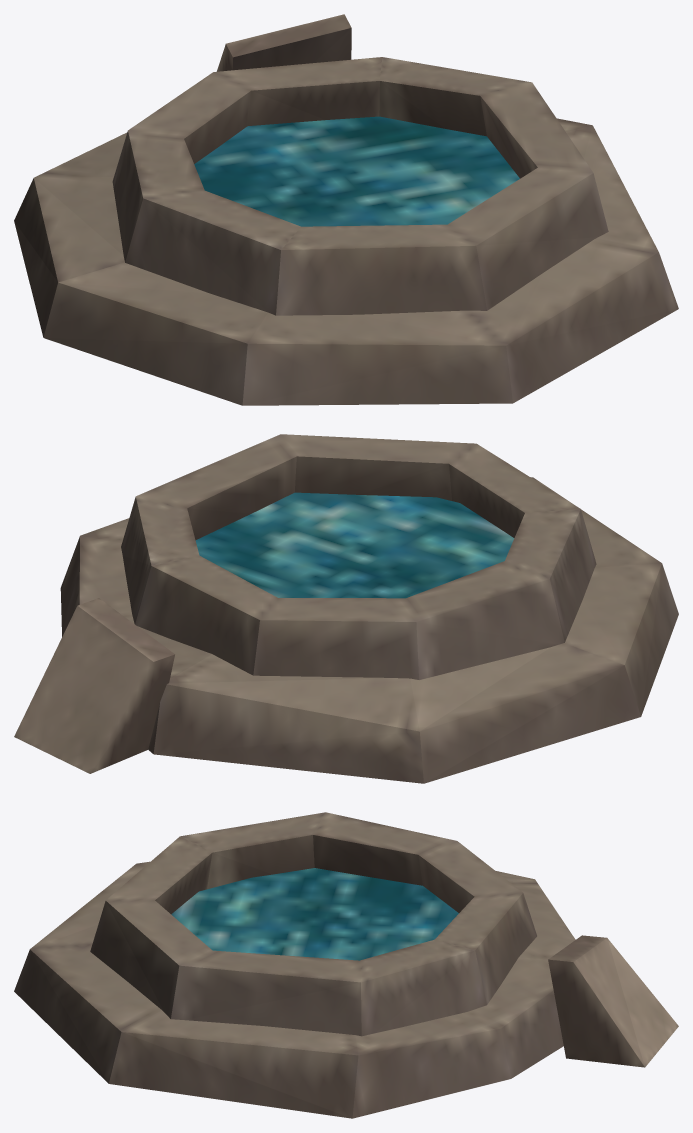
Rendered from Area_09_16.fbx.
3 renders of one model, top to bottom at view 1: azimuth 30°, elevation 25°; view 2: azimuth 150°, elevation 25°; view 3: azimuth 270°, elevation 25°, orthographic. The views are drawn at different scales.
Parts seen in each view (by area): view 1: Area_09_16; view 2: Area_09_16; view 3: Area_09_16.
Part boxes in pixels (left/top/right/bottom): Area_09_16: left=14, top=14, right=678, bottom=405; Area_09_16: left=14, top=434, right=678, bottom=783; Area_09_16: left=14, top=812, right=678, bottom=1118.
Bounding box in the file's own units: 365 × 70.31 × 417.
